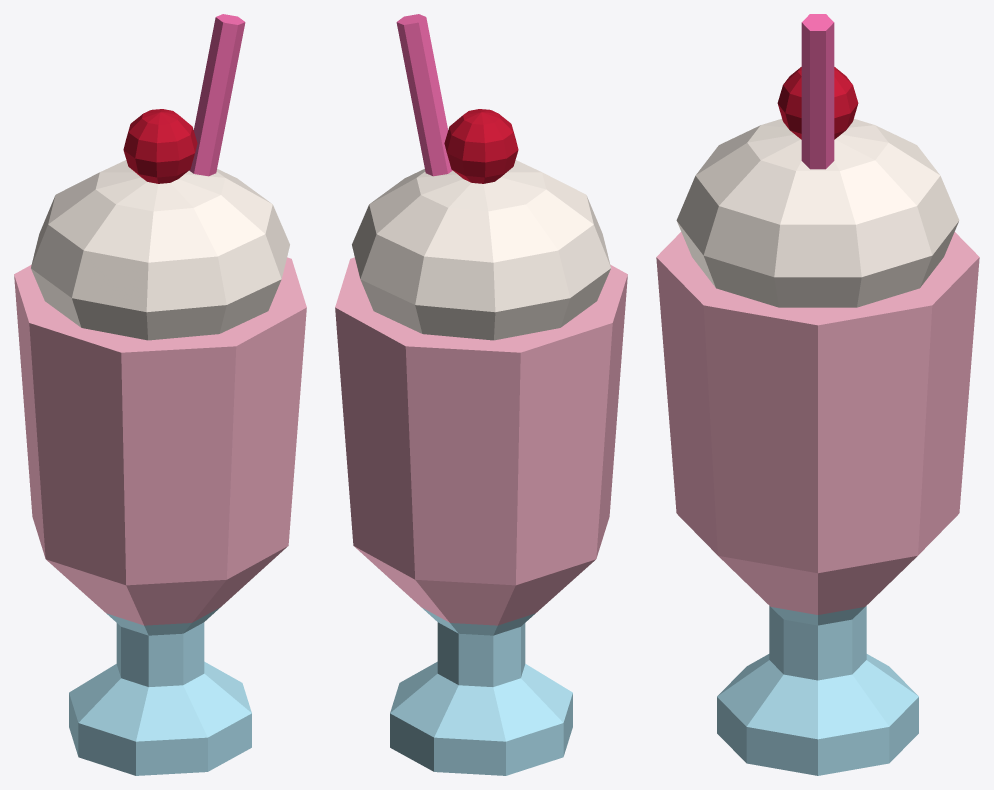
File: Milkshake.fbx
3 renders of one model, left to right at view 1: azimuth 30°, elevation 25°; view 2: azimuth 150°, elevation 25°; view 3: azimuth 270°, elevation 25°, orthographic. The views are drawn at different scales.
Parts seen in each view (by area): view 1: Milkshake; view 2: Milkshake; view 3: Milkshake.
Part boxes in pixels (<box>): Milkshake: <box>14,14,306,775</box>; Milkshake: <box>335,14,627,775</box>; Milkshake: <box>656,14,979,775</box>.
Bounding box in the file's own units: 0.8 × 2.05 × 0.8.
1 material, 1 textured.
